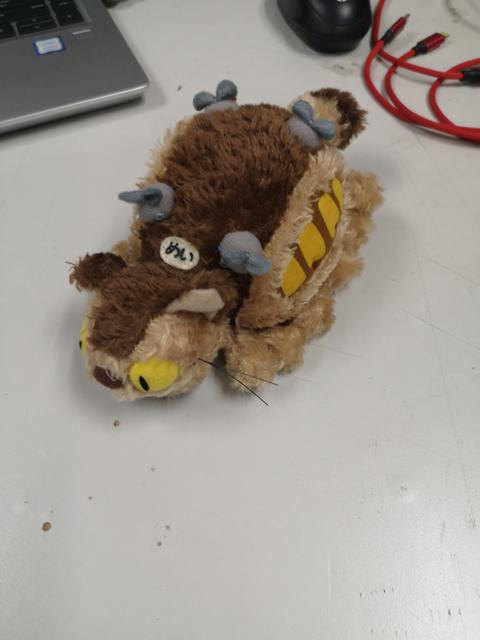nekobus: (59, 72, 397, 423)
